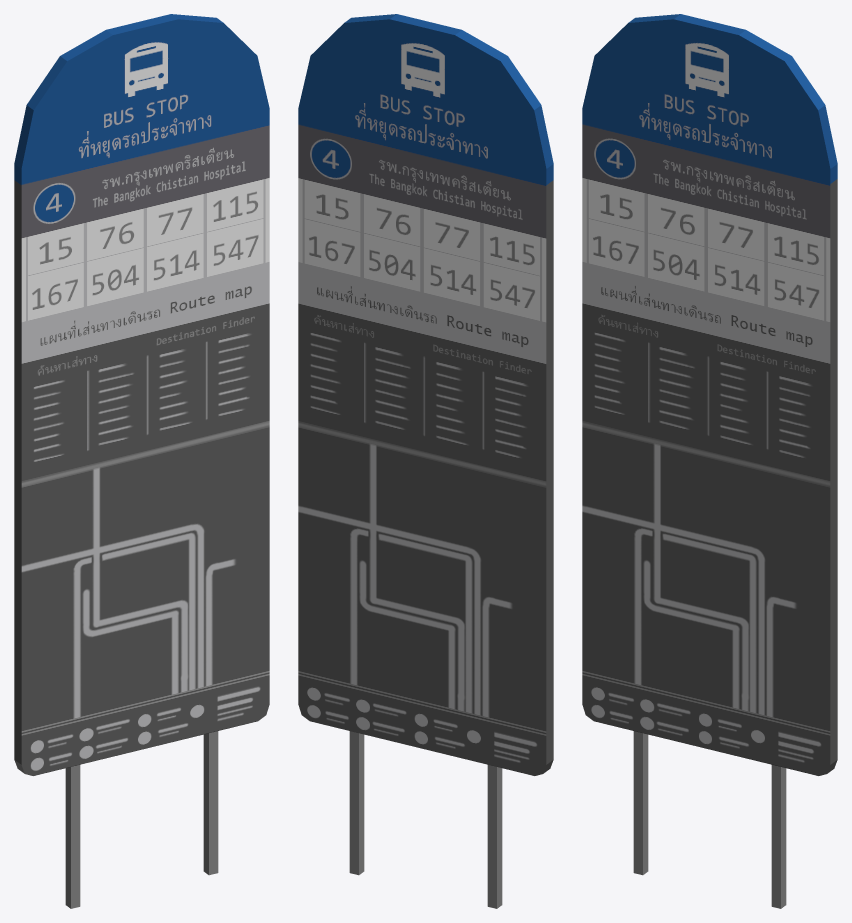
File: BusStop(Hospital).glb
3 renders of one model, left to right at view 1: azimuth 30°, elevation 25°; view 2: azimuth 150°, elevation 25°; view 3: azimuth 330°, elevation 25°, orthographic.
Visible parts, largest first — view 1: BusStop_Geo; view 2: BusStop_Geo; view 3: BusStop_Geo.
Boxes of the visible parts, box(x1,y1,x2,y2) form: BusStop_Geo: box(14, 14, 269, 908); BusStop_Geo: box(298, 14, 553, 908); BusStop_Geo: box(582, 14, 837, 908).
Bounding box in the file's own units: 4.17 × 13.87 × 0.2099.
Materials: 2 (1 with a texture image).
